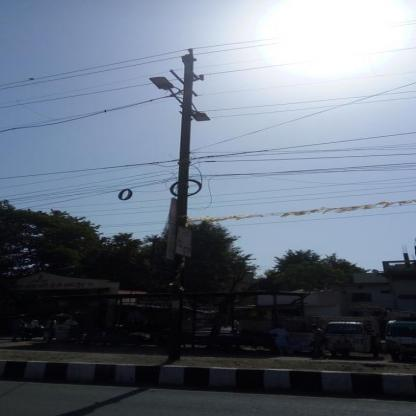Electrical Pole: (127, 41, 220, 361)
